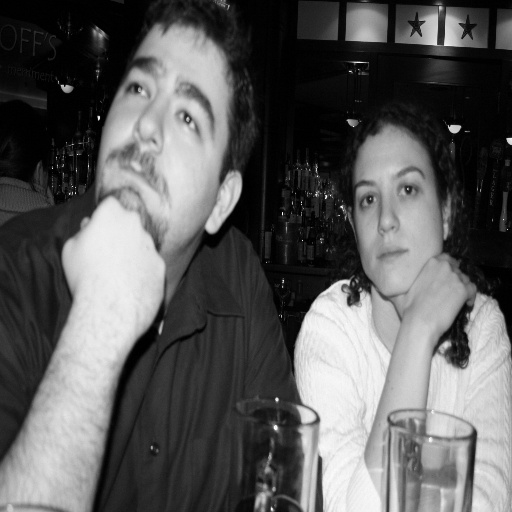hand: (60, 193, 163, 347), (399, 252, 478, 380)
